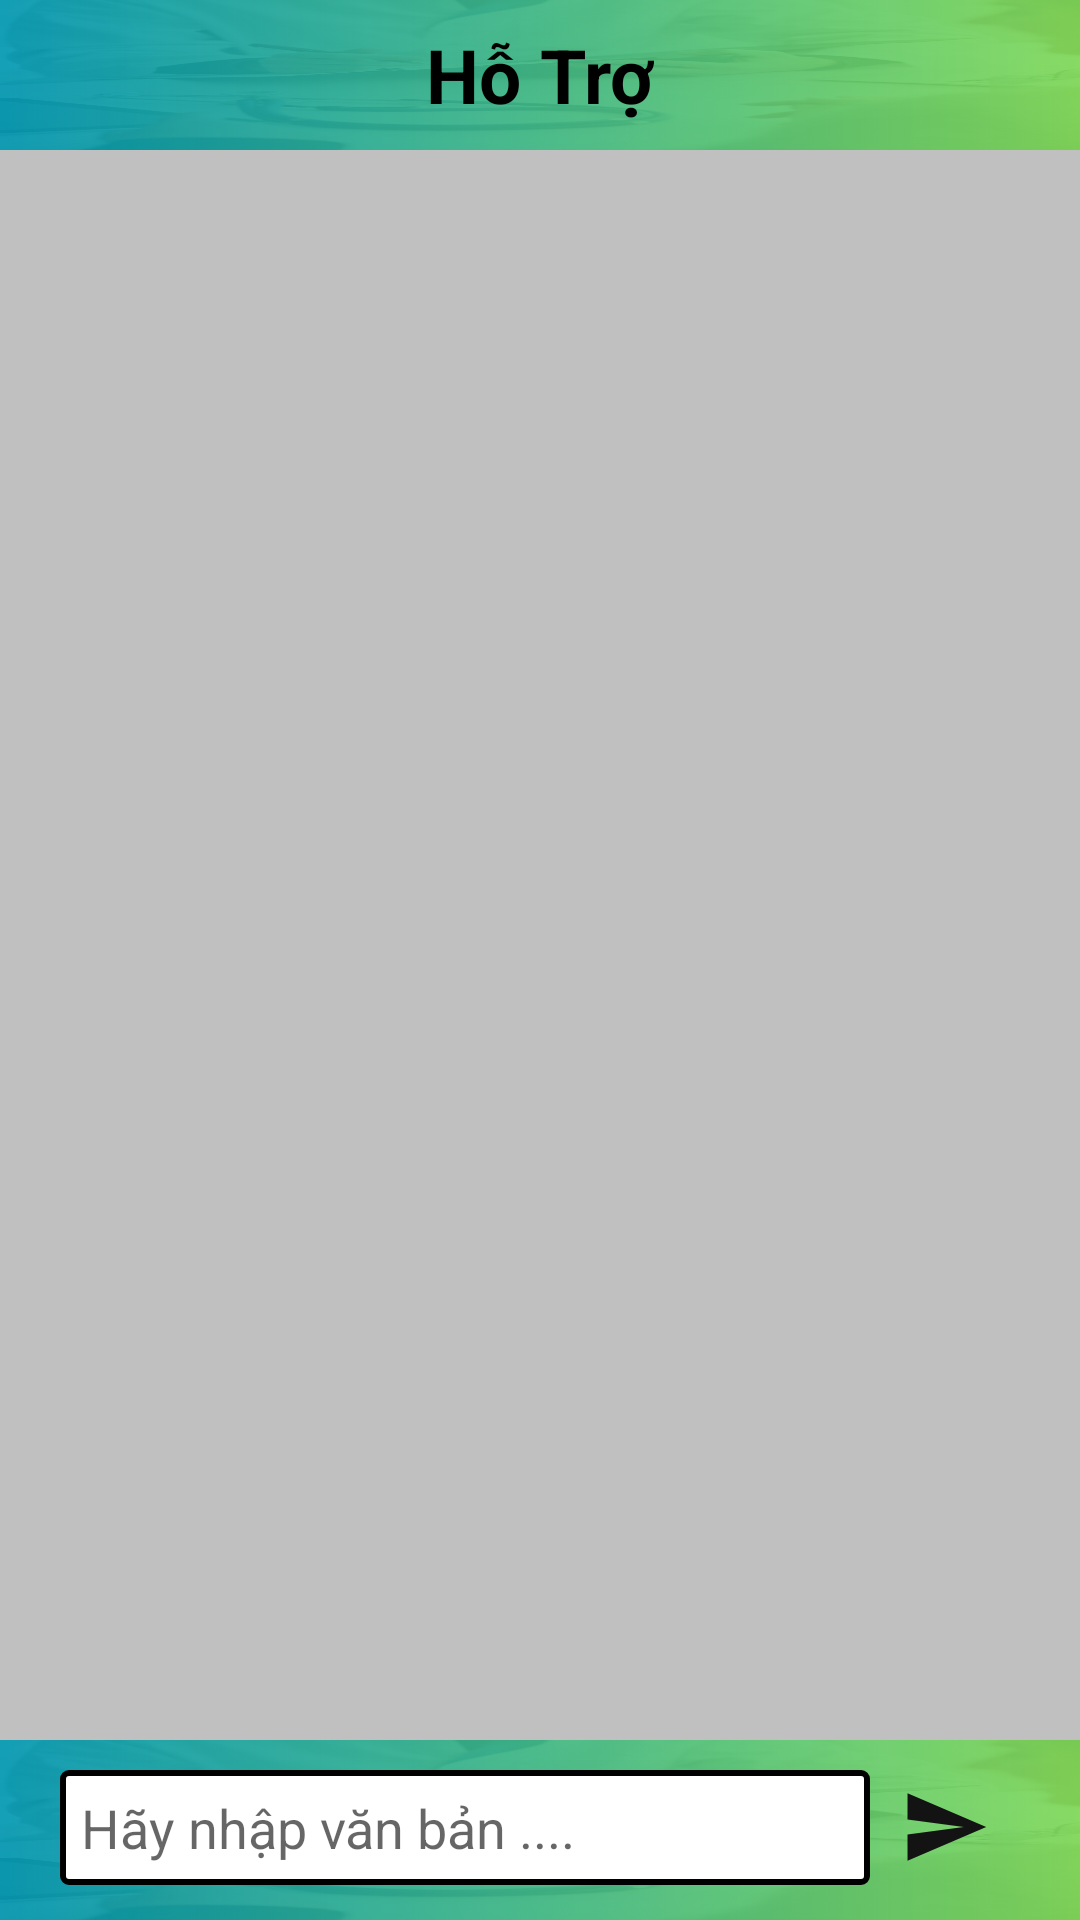

Locate icon controls on the screen. Image size 1080*1920, boxes as (x1, y1, x2, y2).
send: (907, 1793, 986, 1861)
